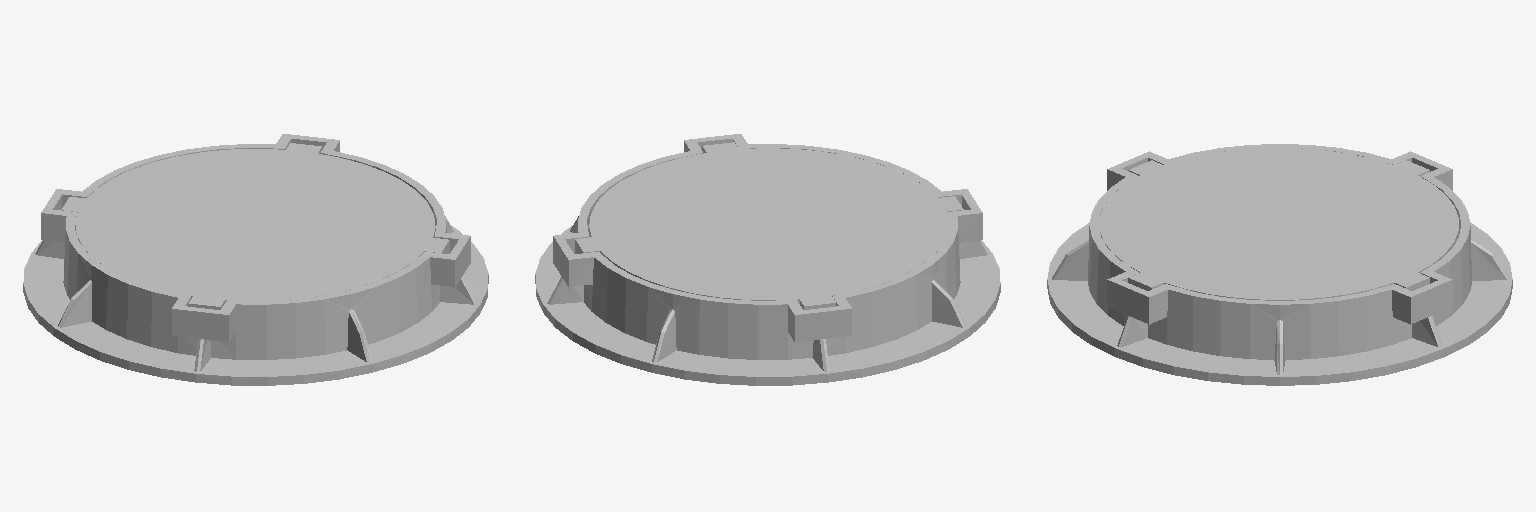
File: Hatch2.obj
The picture shows the model from 3 angles: view 1: azimuth 30°, elevation 25°; view 2: azimuth 150°, elevation 25°; view 3: azimuth 270°, elevation 25°; orthographic projection.
Visible parts, largest first — view 1: ManholeAndCover_mesh_Cylinder.001; view 2: ManholeAndCover_mesh_Cylinder.001; view 3: ManholeAndCover_mesh_Cylinder.001.
Part boxes in pixels (bbox=[...]): ManholeAndCover_mesh_Cylinder.001: bbox=[23, 134, 488, 385]; ManholeAndCover_mesh_Cylinder.001: bbox=[535, 134, 1000, 385]; ManholeAndCover_mesh_Cylinder.001: bbox=[1047, 144, 1512, 385].
Bounding box in the file's own units: 0.8338 × 0.125 × 0.8338.